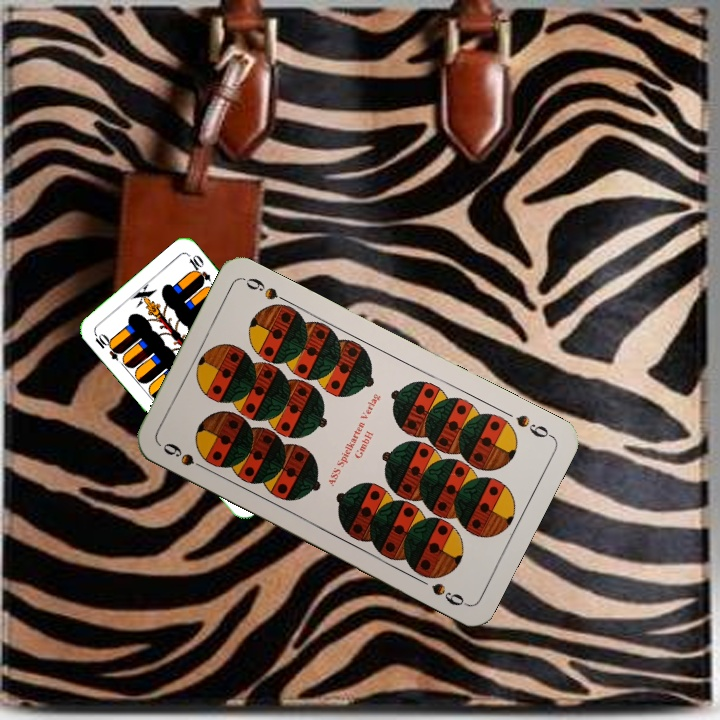E10: (90, 328, 124, 363)
S9: (159, 438, 212, 474), (512, 411, 555, 441)
